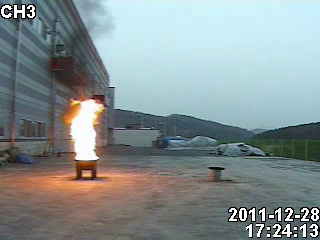fire: (67, 95, 106, 161)
